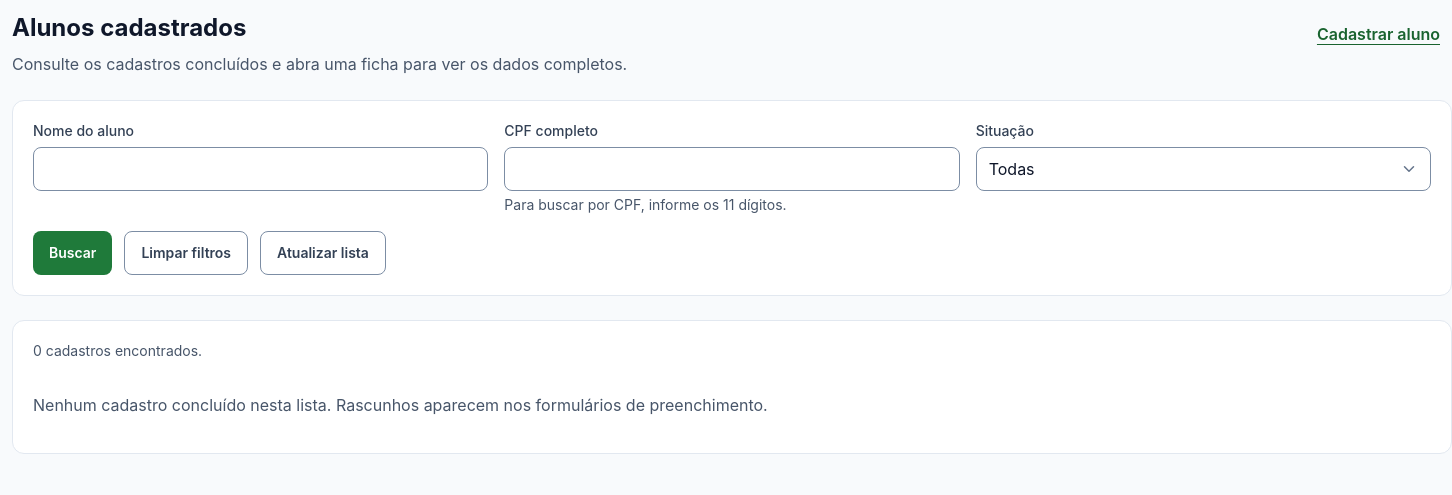
Test: valida CPF completo e limpa também filtros digitados ainda não enviados
Expected: the text "Nenhum cadastro concluído" is shown, [33,395,768,415]
Step 1. Type "Ana" into the field labelled "Nome do aluno" → (261, 169), box [33,147,488,191]
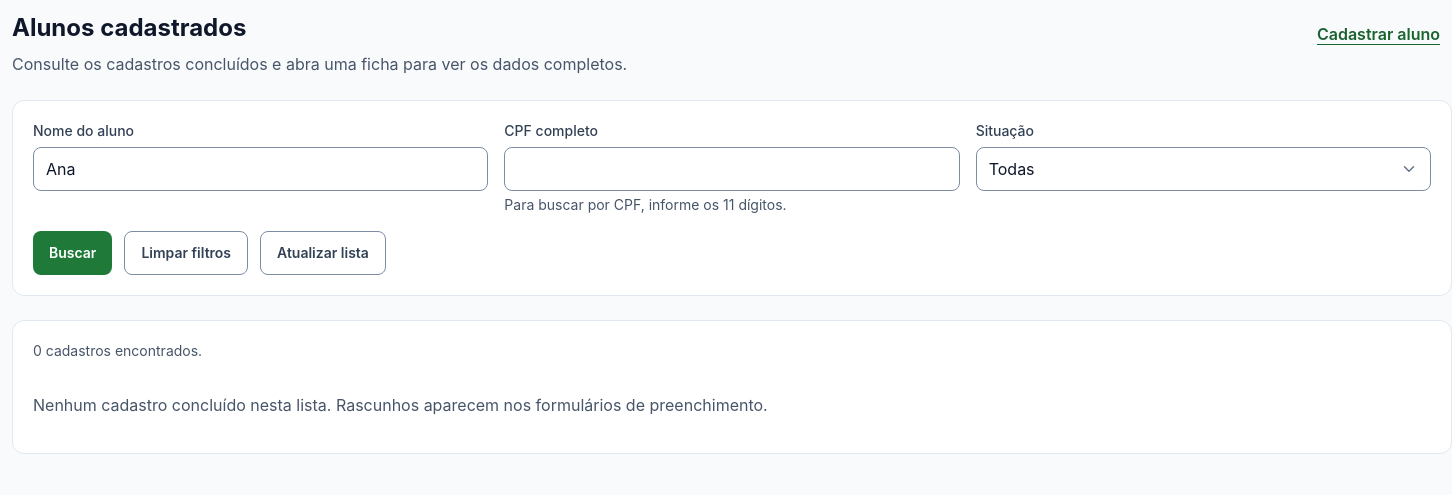
Step 2. Type "123" into the field labelled "CPF completo" → (732, 169), box [504,147,960,191]
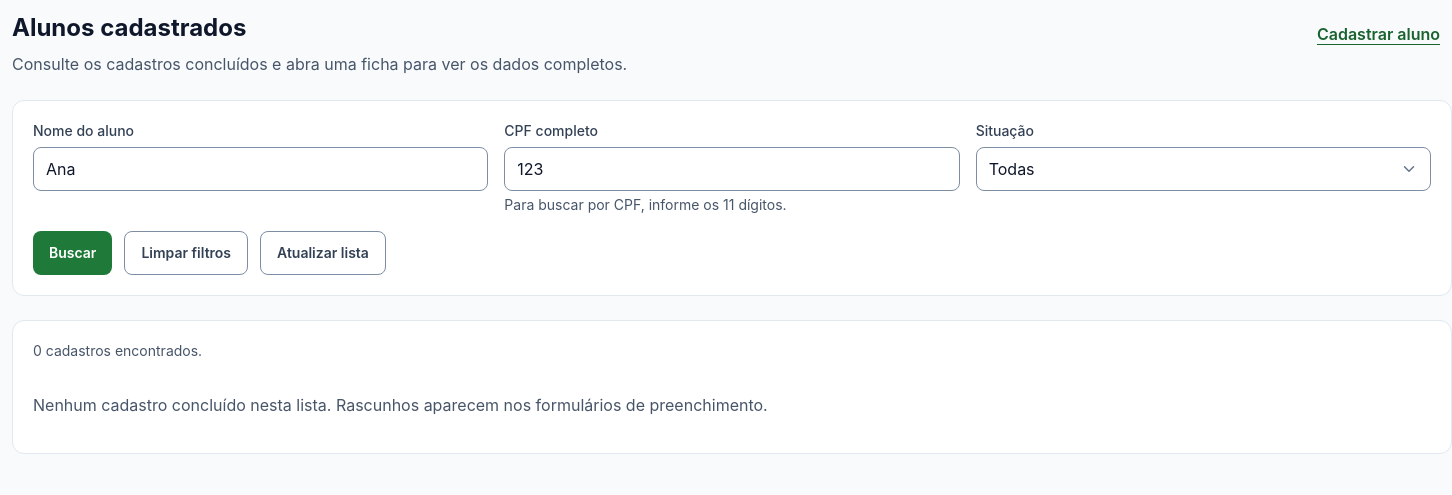
Step 3. Click the button "Buscar" → (73, 253), box [33,231,112,275]
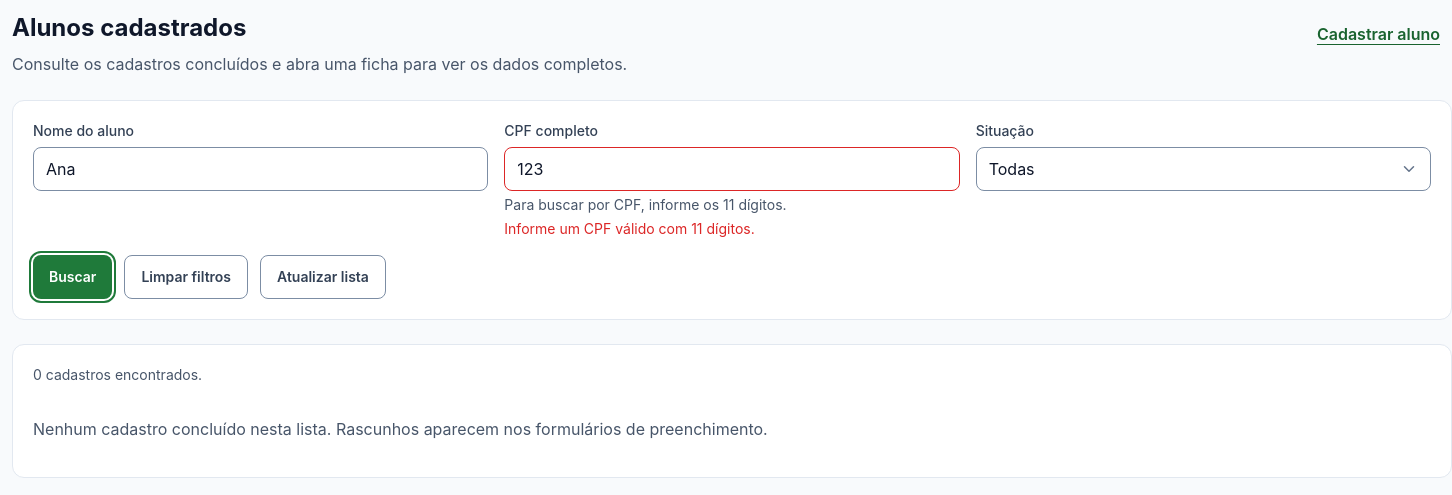
Expected: the text "Informe um CPF válido com 11 dígitos." is shown, [504,220,755,237]
Step 4. Click the button "Limpar filtros" → (186, 277), box [124,255,248,299]
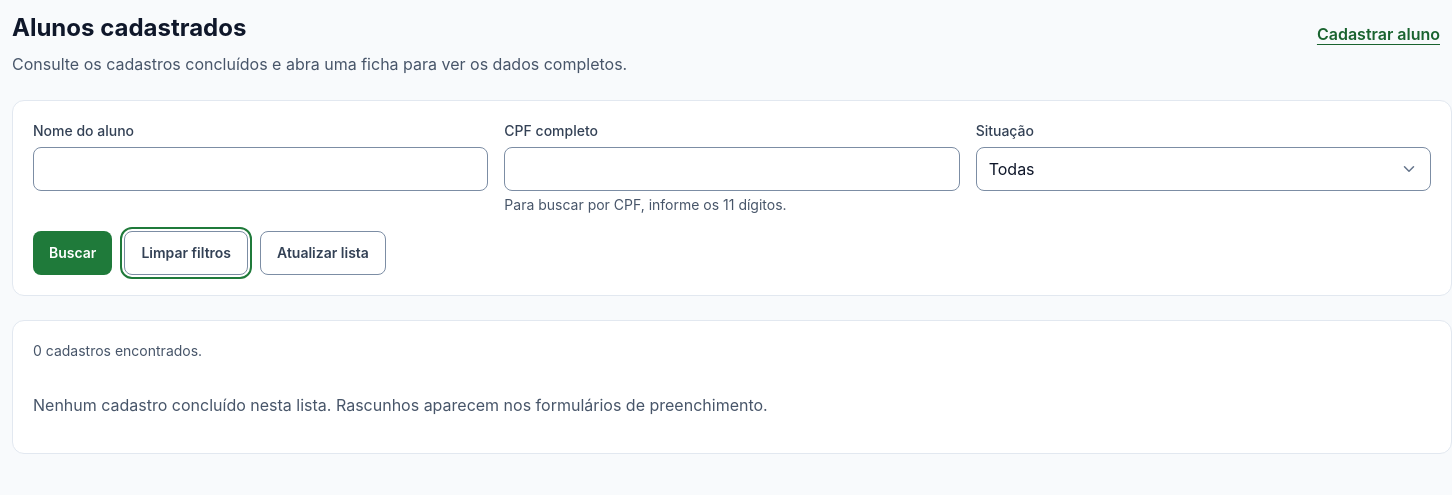
Expected: the field labelled "Nome do aluno" is empty, [33,147,488,191]
Expected: the field labelled "CPF completo" is empty, [504,147,960,191]
Expected: the text "Informe um CPF válido com 11 dígitos." is gone
